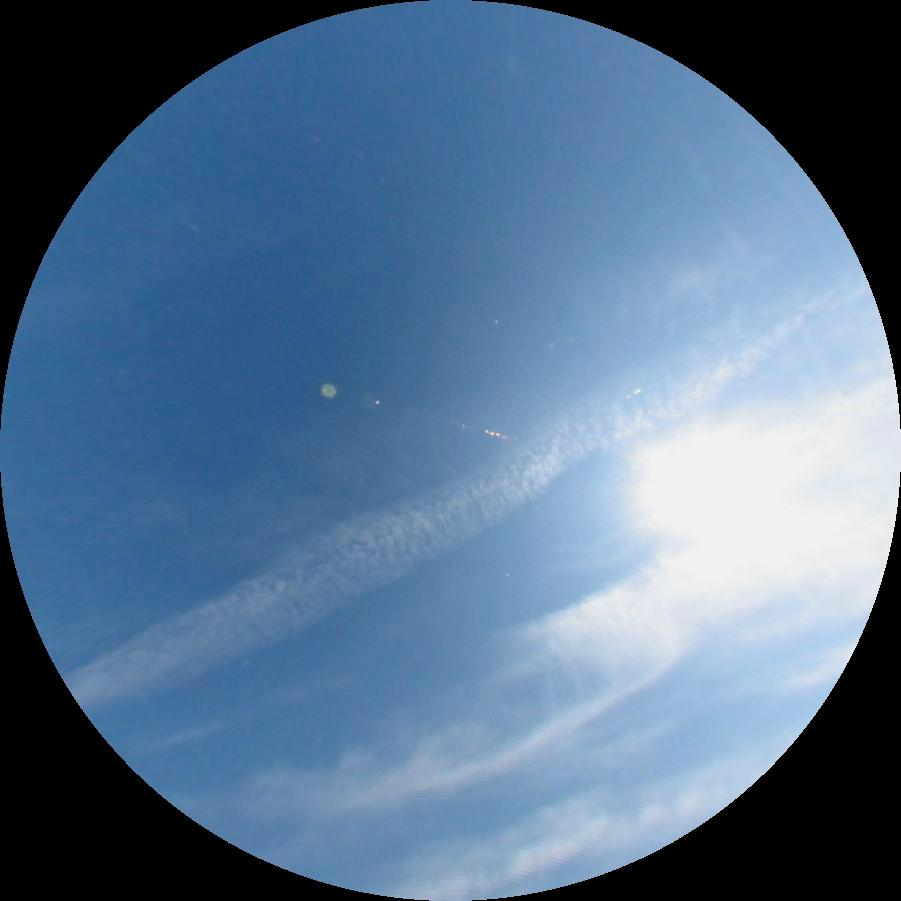contrail veryold: (61, 240, 885, 745)
sun: (652, 450, 768, 523)
